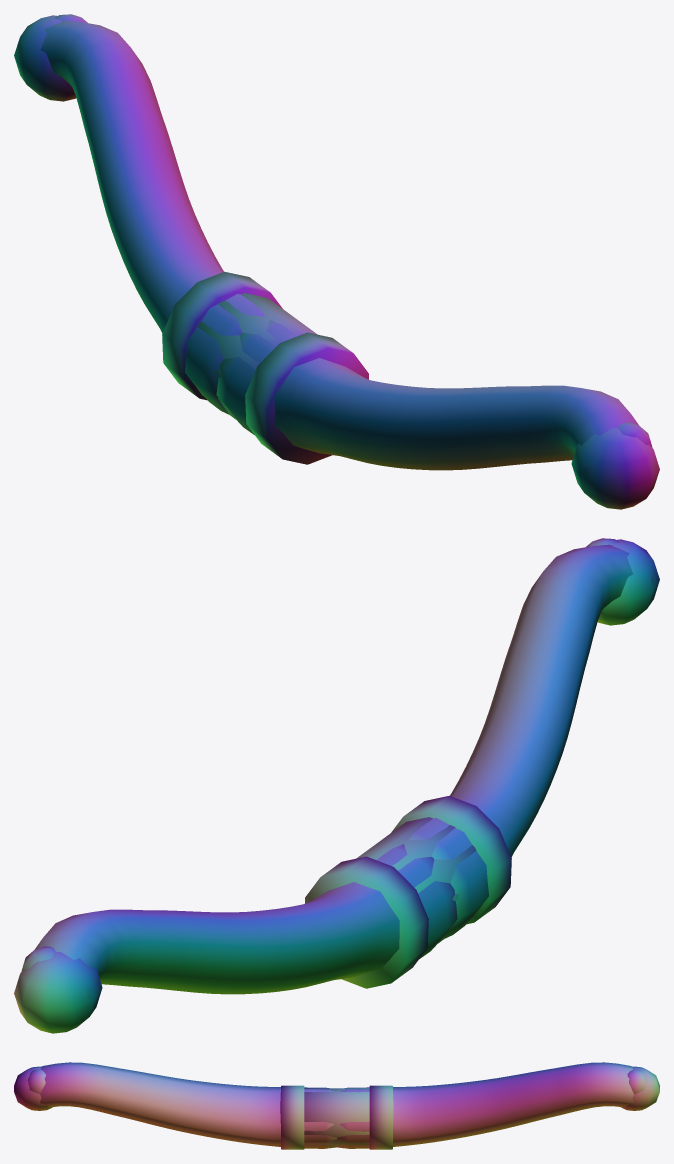
Rendered from SM_Hero_Rogue_Bow.fbx.
The picture shows the model from 3 angles, top to bottom: view 1: azimuth 30°, elevation 25°; view 2: azimuth 150°, elevation 25°; view 3: azimuth 270°, elevation 25°; orthographic projection. The views are drawn at different scales.
Visible parts, largest first — view 1: SM_Hero_Rogue_Bow; view 2: SM_Hero_Rogue_Bow; view 3: SM_Hero_Rogue_Bow.
Boxes of the visible parts, x1,y1,x2,y2 form: SM_Hero_Rogue_Bow: (14,14,659,509); SM_Hero_Rogue_Bow: (14,538,659,1033); SM_Hero_Rogue_Bow: (14,1062,659,1149).
Bounding box in the file's own units: 0.1411 × 0.1549 × 0.8853.
